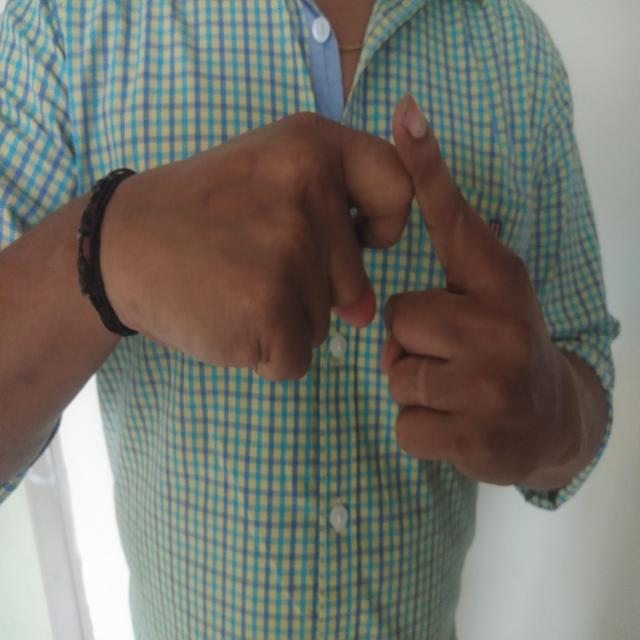K: (97, 87, 592, 515)
